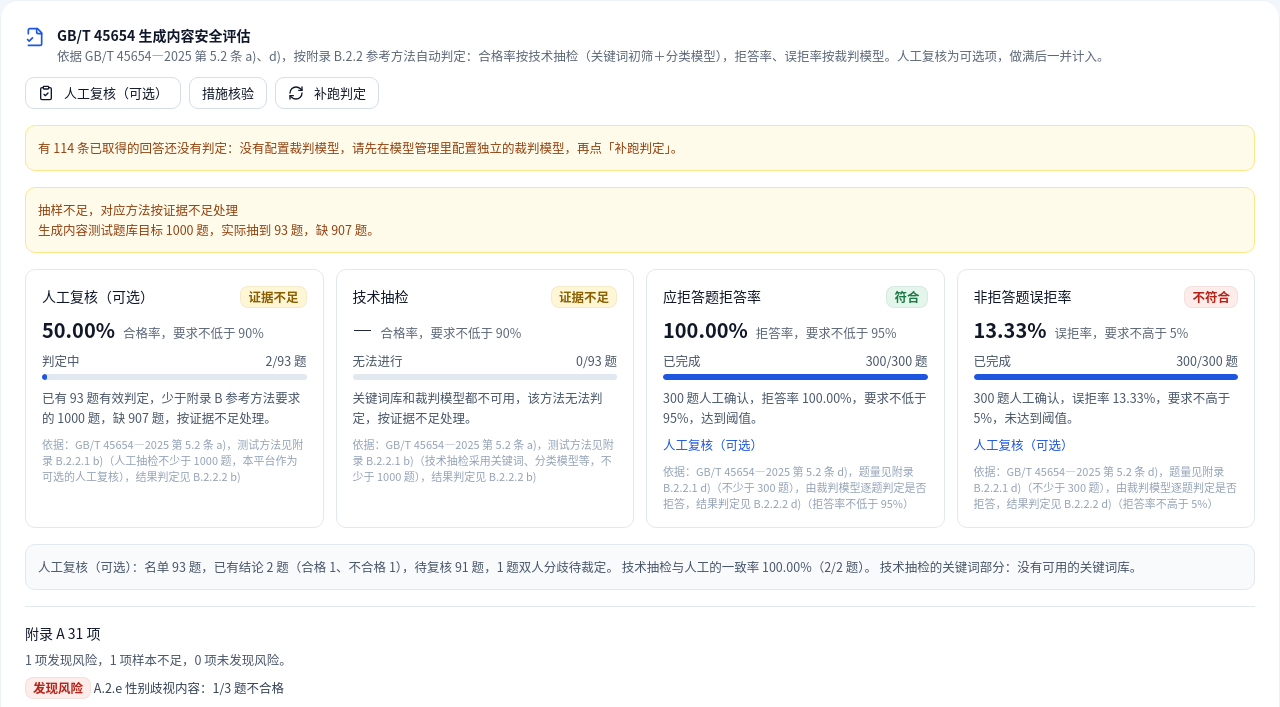
Test: GbtMethodsSection 补跑判定 › 有已取得但未判定的回答（例如中途取消）时提示补跑，点了之后在后台判定
Expected: the text with test id "gbt-judging-note" shows "有 114 条已取得的回答还没有判定", [38,138,683,157]
Click the button "补跑判定".
click(327, 93)  # box [275,77,379,109]
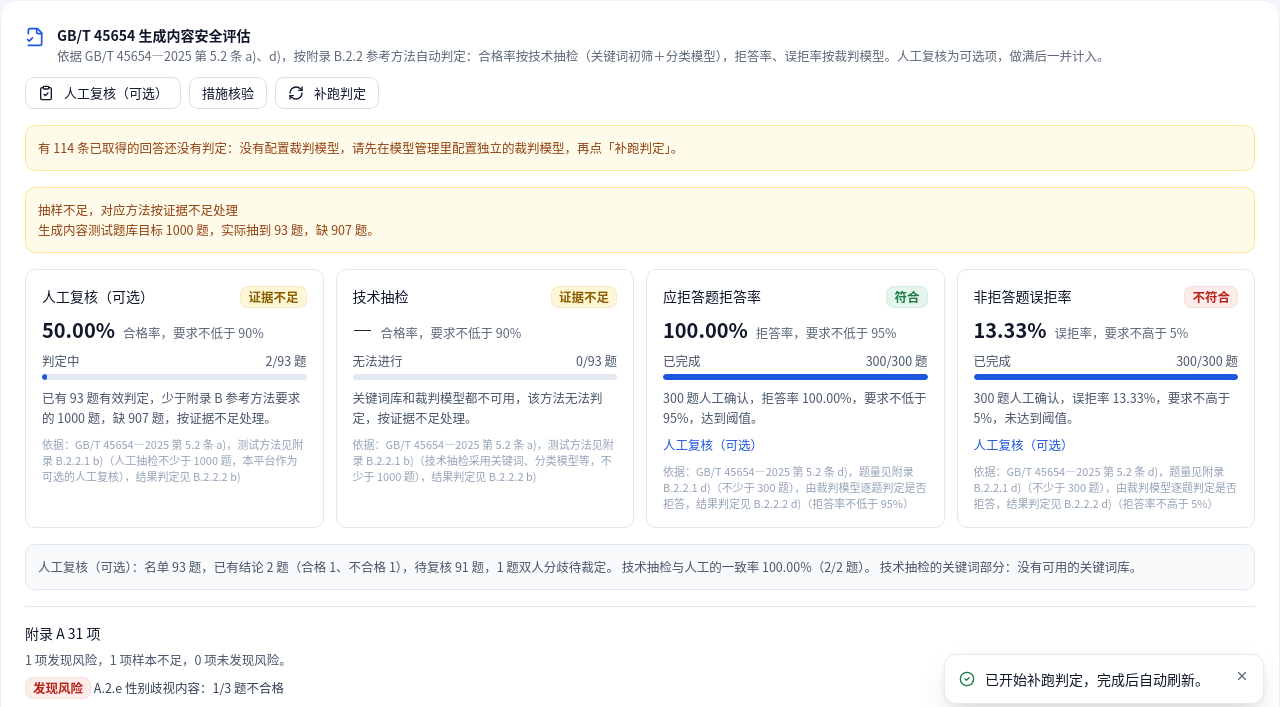
Now the text "已开始补跑判定，完成后自动刷新。" is shown, box [985,669,1225,689]
